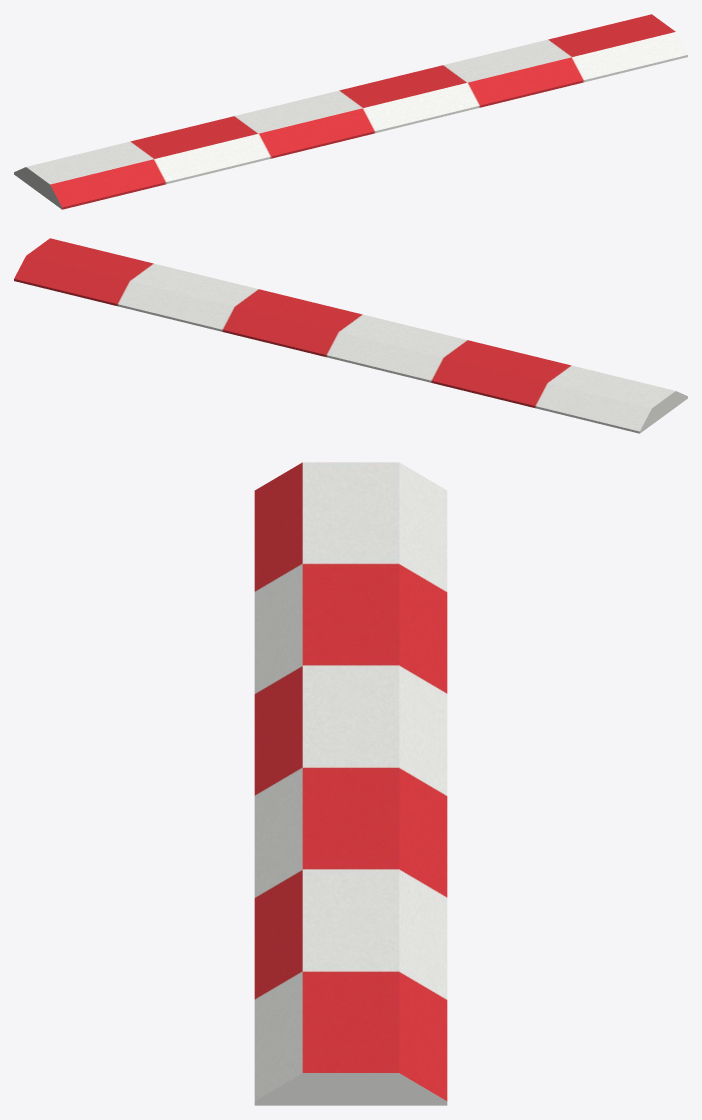
File: kerb.glb
3 views of the same model, one above another, from view 1: azimuth 30°, elevation 25°; view 2: azimuth 150°, elevation 25°; view 3: azimuth 270°, elevation 25° (orthographic). The views are drawn at different scales.
Parts seen in each view (by area): view 1: kerb; view 2: kerb; view 3: kerb.
Part boxes in pixels (left/top/right/bottom): kerb: left=14, top=14, right=687, bottom=209; kerb: left=14, top=238, right=687, bottom=433; kerb: left=254, top=462, right=447, bottom=1105.
Size of the model in its own units: 6 by 0.15 by 0.8.
Materials: 1 (1 with a texture image).
